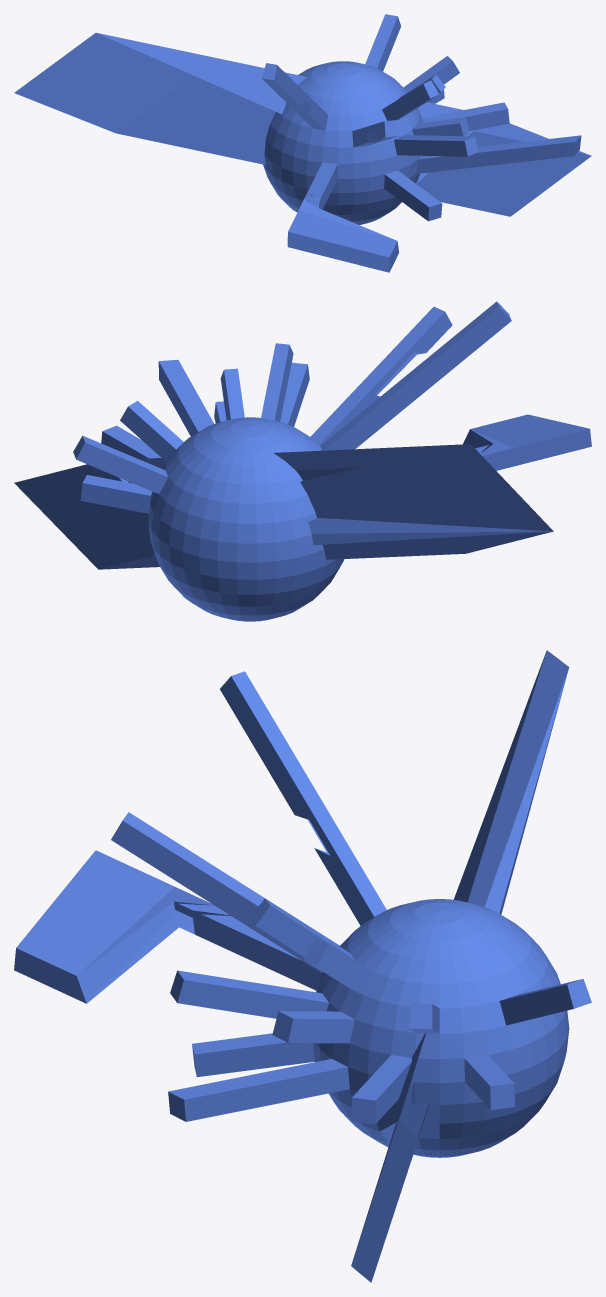
File: bola.glb
3 views of the same model, one above another, from view 1: azimuth 30°, elevation 25°; view 2: azimuth 150°, elevation 25°; view 3: azimuth 270°, elevation 25° (orthographic). The views are drawn at different scales.
Visible parts, largest first — view 1: Sphere; view 2: Sphere; view 3: Sphere.
Part boxes in pixels (<box>): Sphere: <box>14,14,591,272</box>; Sphere: <box>14,301,591,621</box>; Sphere: <box>14,650,591,1282</box>.
Bounding box in the file's own units: 7.07 × 3.36 × 4.46.
